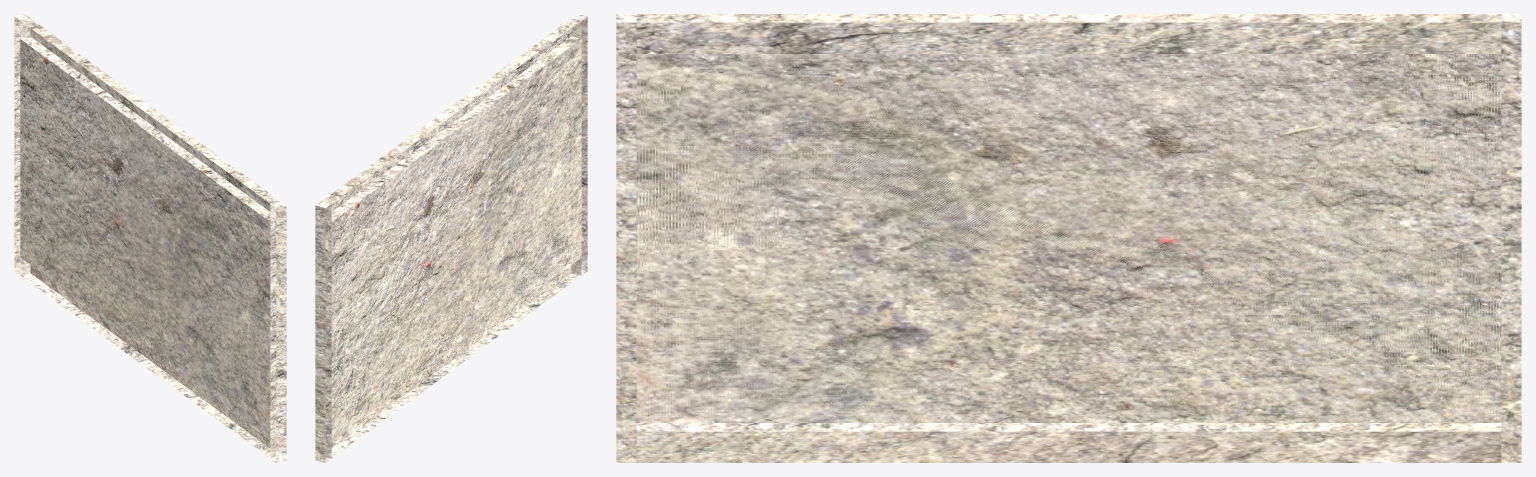
The model's file is quoteboard.glb.
3 renders of one model, left to right at view 1: azimuth 30°, elevation 25°; view 2: azimuth 150°, elevation 25°; view 3: azimuth 270°, elevation 25°, orthographic. The views are drawn at different scales.
Visible parts, largest first — view 1: Plane; view 2: Plane; view 3: Plane.
Part boxes in pixels (x1=…): Plane: x1=14, y1=14, x2=286, y2=462; Plane: x1=315, y1=14, x2=587, y2=462; Plane: x1=616, y1=14, x2=1521, y2=462.
Size of the model in its own units: 0.2 by 4.8 by 8.94.
Materials: 1 (1 with a texture image).
